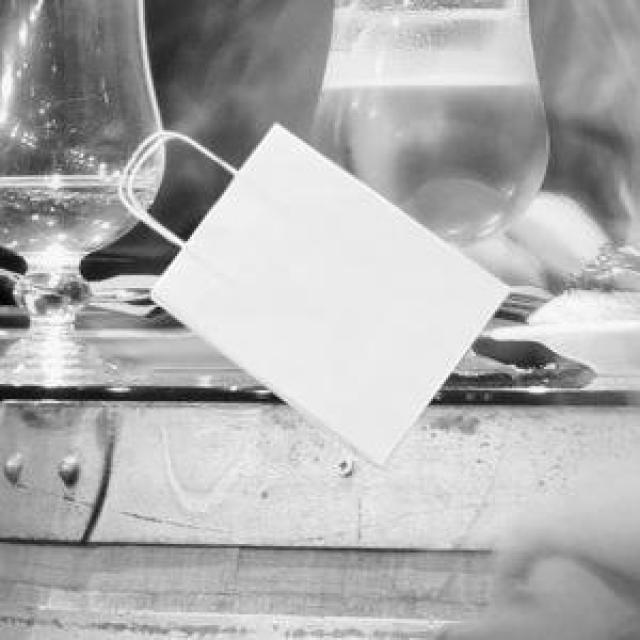paper: (115, 120, 506, 463)
